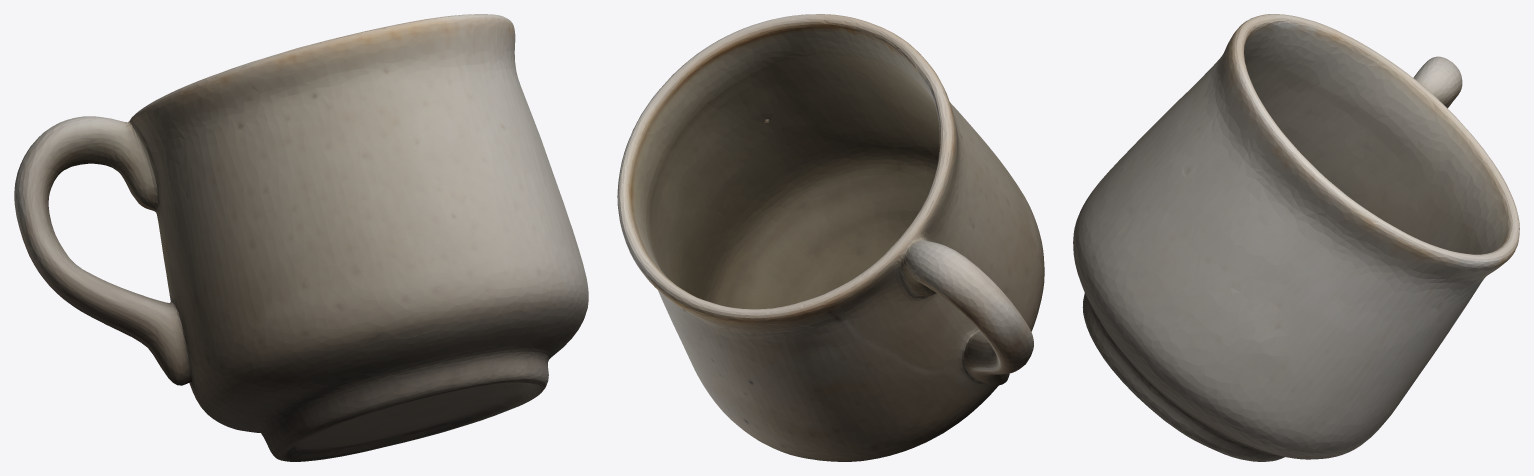
The model's file is mug_2.glb.
The picture shows the model from 3 angles, left to right: view 1: azimuth 30°, elevation 25°; view 2: azimuth 150°, elevation 25°; view 3: azimuth 270°, elevation 25°; orthographic projection. The views are drawn at different scales.
Visible parts, largest first — view 1: world; view 2: world; view 3: world.
Part boxes in pixels (x1,y1,x2,y2): world: [14, 14, 588, 461]; world: [617, 14, 1044, 461]; world: [1073, 14, 1519, 461].
Bounding box in the file's own units: 0.1704 × 0.1607 × 0.1605.
Materials: 1 (1 with a texture image).
